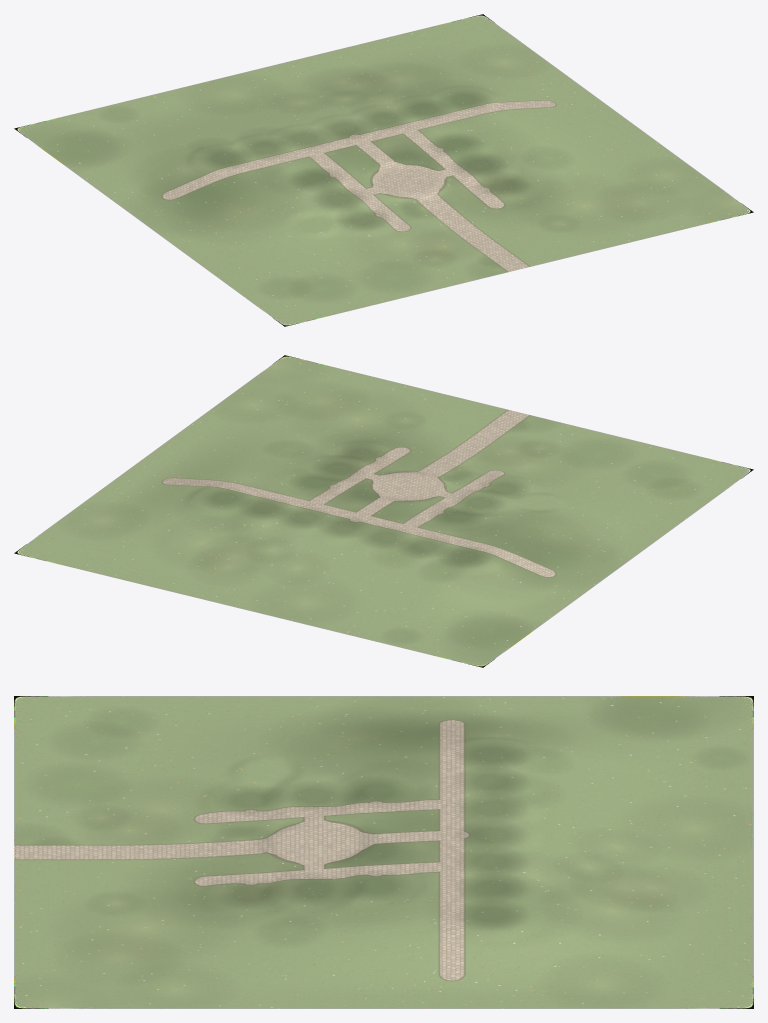
The model's file is terreno_centro_san_fernando.fbx.
3 renders of one model, top to bottom at view 1: azimuth 30°, elevation 25°; view 2: azimuth 150°, elevation 25°; view 3: azimuth 270°, elevation 25°, orthographic. The views are drawn at different scales.
Visible parts, largest first — view 1: piso; view 2: piso; view 3: piso.
Part boxes in pixels (box(x1,y1,x2,y2)): piso: box(14, 14, 753, 326); piso: box(14, 355, 753, 667); piso: box(14, 696, 753, 1008).
Size of the model in its own units: 10000 by 260 by 10000.
Materials: 1 (1 with a texture image).
